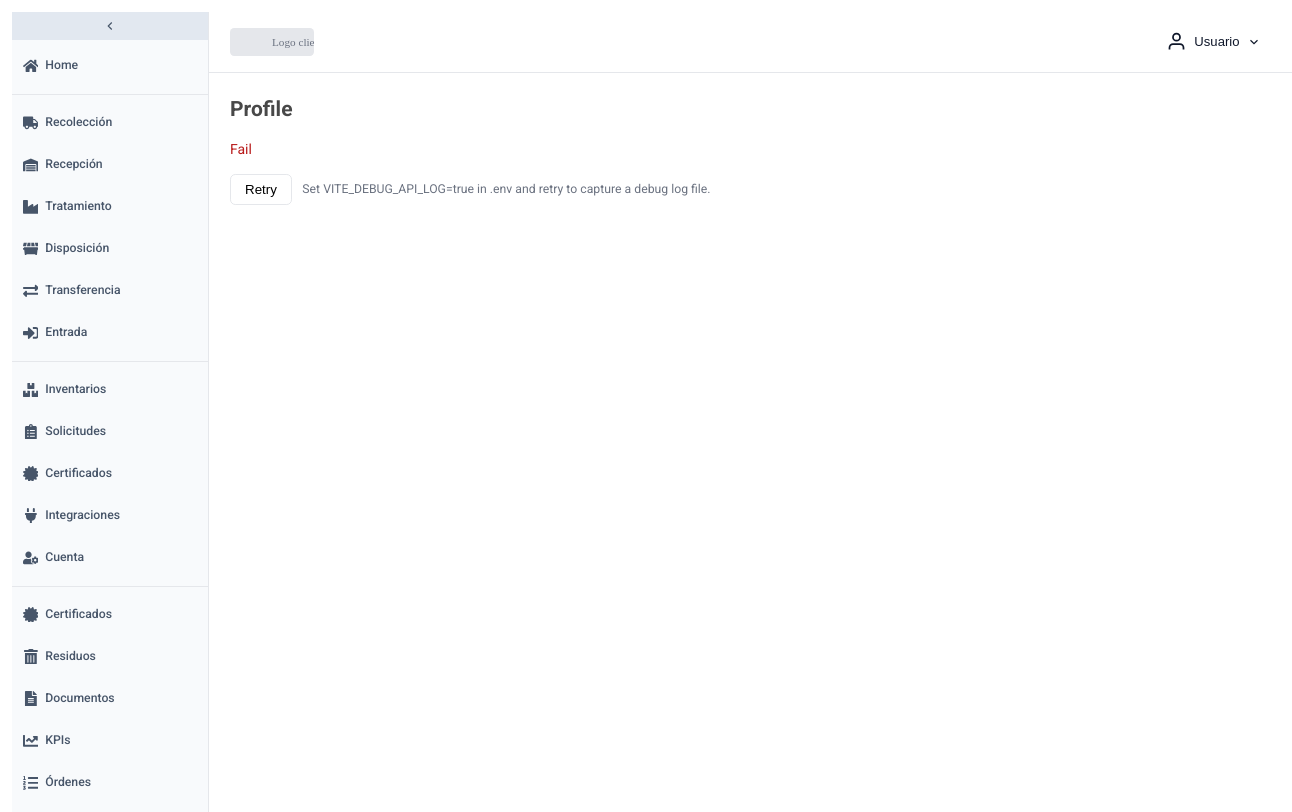
User profile feature (integration) › shows error and retry updates content
This screenshot has width=1292, height=812.
Expected: the message reads "Fail", [230,141,252,157]
Step 1. Click the button "Retry" → (261, 190), box [230,174,292,205]
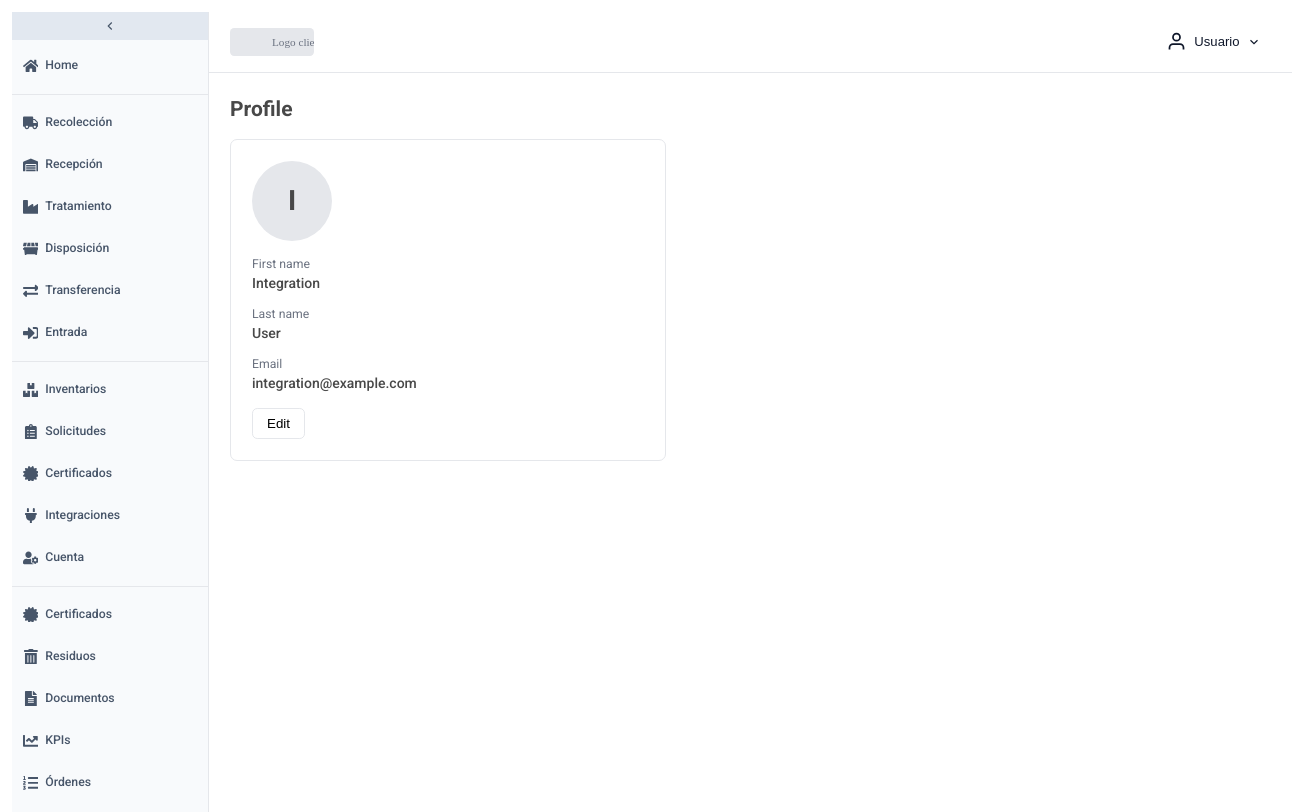
Expected: the text "Integration" is shown, [252,275,320,291]
Expected: the text "User" is shown, [252,325,281,341]
